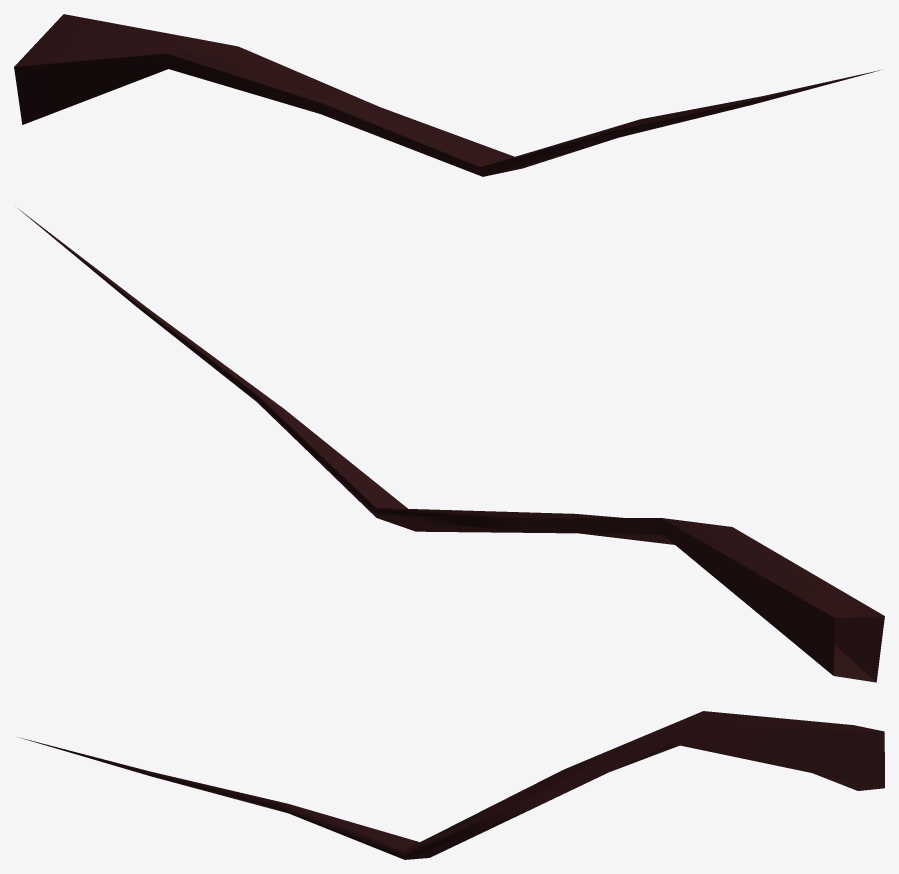
File: SM_Branch04.fbx
3 views of the same model, one above another, from view 1: azimuth 30°, elevation 25°; view 2: azimuth 210°, elevation 25°; view 3: azimuth 270°, elevation 25° (orthographic). The views are drawn at different scales.
Visible parts, largest first — view 1: SM_Branch04; view 2: SM_Branch04; view 3: SM_Branch04.
Part boxes in pixels (x1,y1,x2,y2): SM_Branch04: (14, 14, 882, 176); SM_Branch04: (17, 208, 884, 682); SM_Branch04: (19, 711, 884, 859).
Bounding box in the file's own units: 5 × 8.73 × 2.88.
